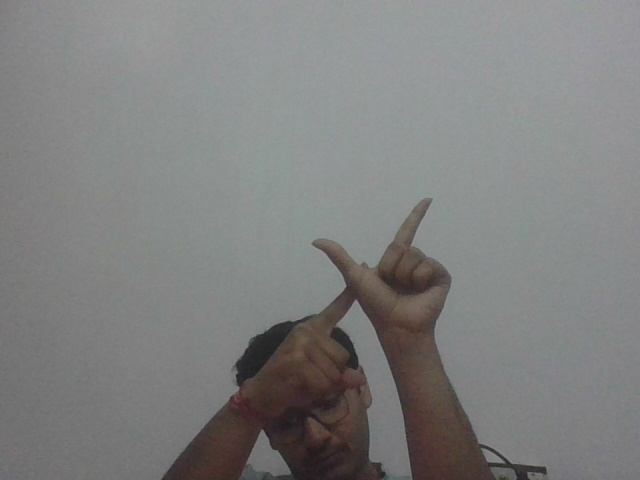Y: (305, 190, 454, 394)
